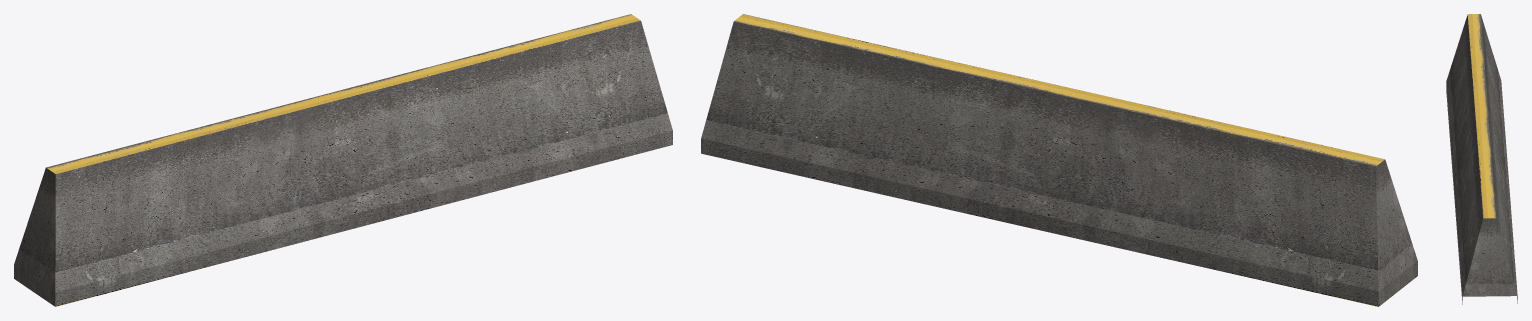
File: map4.obj
3 renders of one model, left to right at view 1: azimuth 30°, elevation 25°; view 2: azimuth 150°, elevation 25°; view 3: azimuth 270°, elevation 25°, orthographic. The views are drawn at different scales.
Parts seen in each view (by area): view 1: map4.003; view 2: map4.003; view 3: map4.003.
Part boxes in pixels (<box>): map4.003: <box>14,14,672,306</box>; map4.003: <box>701,14,1417,306</box>; map4.003: <box>1446,14,1517,304</box>.
Size of the model in its own units: 2.49 by 0.4431 by 0.3465.
Materials: 1 (1 with a texture image).
